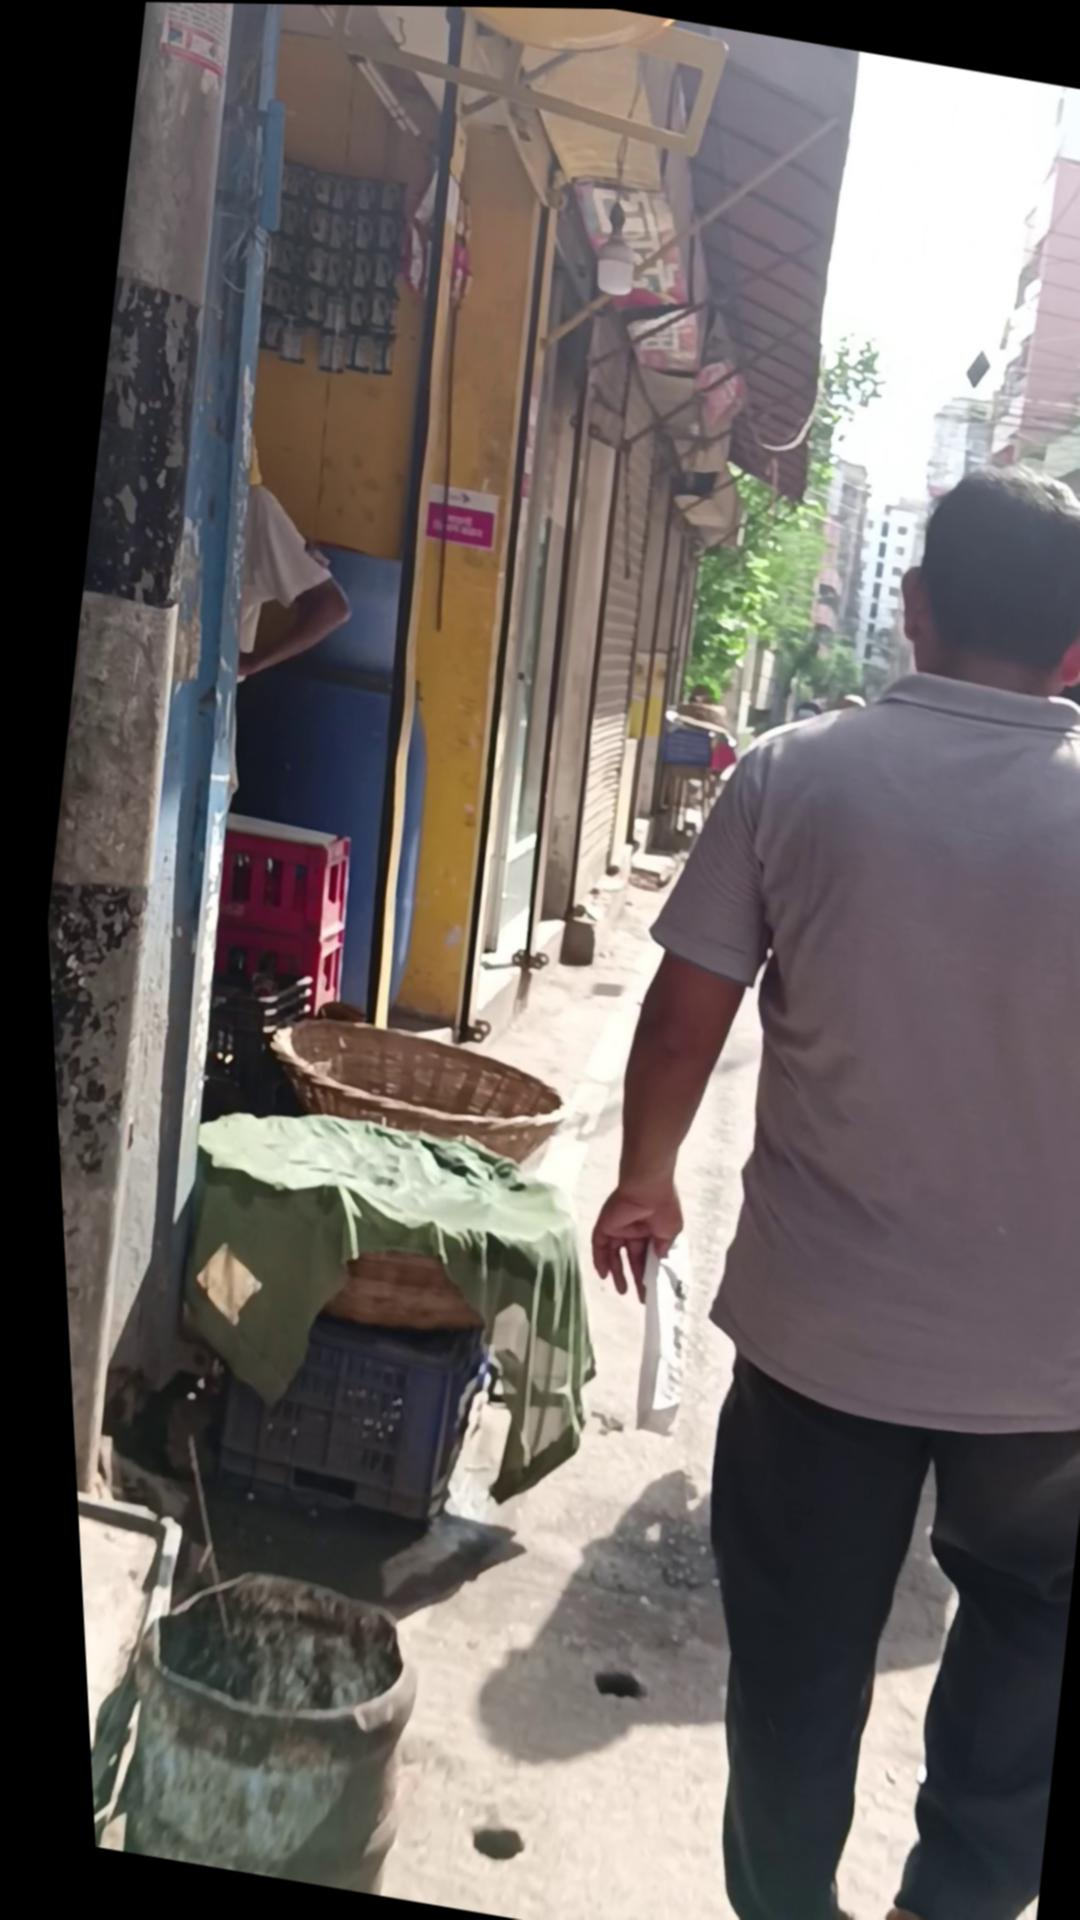Garbage: (79, 1548, 421, 1895)
Motorcycle: (183, 1282, 484, 1539)
Muddy road: (433, 398, 1080, 1920)
Obstacle: (282, 3, 537, 1031)
